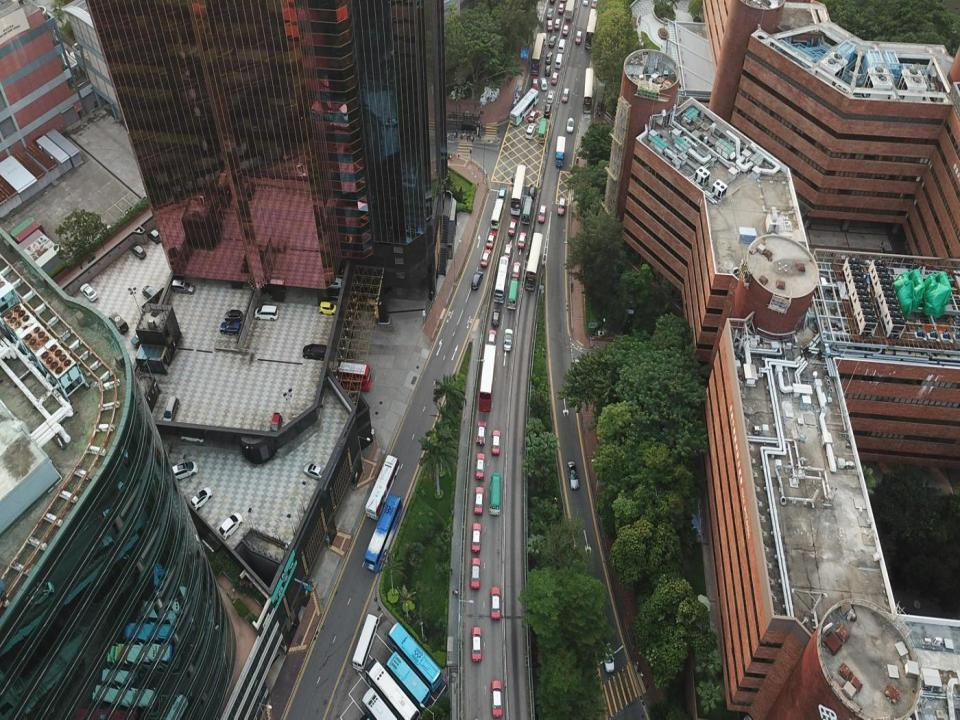bus: (388, 621, 442, 693), (365, 658, 420, 719), (365, 493, 404, 573), (386, 650, 430, 711), (365, 454, 400, 520), (352, 613, 380, 671), (479, 343, 496, 414), (361, 686, 396, 719), (509, 88, 539, 126), (524, 232, 543, 291), (509, 164, 526, 215), (493, 256, 509, 302), (585, 8, 599, 50), (490, 472, 501, 516), (583, 68, 593, 114), (490, 198, 504, 229), (507, 278, 518, 310), (521, 195, 532, 224), (537, 117, 546, 143)
car: (218, 513, 243, 539), (130, 324, 153, 348), (189, 487, 211, 511), (180, 424, 204, 442), (470, 626, 482, 661), (316, 274, 342, 290), (303, 462, 326, 480), (491, 680, 502, 717), (490, 586, 501, 620), (470, 558, 481, 591), (79, 282, 97, 302), (602, 642, 614, 672), (262, 279, 284, 294), (568, 460, 579, 490), (318, 288, 341, 302), (471, 522, 481, 552), (142, 286, 160, 302), (223, 308, 243, 322), (475, 452, 485, 480), (474, 487, 484, 514), (319, 301, 338, 315), (491, 429, 501, 455), (471, 270, 484, 290), (130, 243, 146, 259), (146, 228, 161, 244), (477, 419, 486, 445), (503, 328, 513, 351), (481, 248, 491, 268), (486, 231, 497, 248), (487, 329, 496, 347), (508, 219, 517, 236), (512, 261, 520, 280), (538, 204, 546, 223), (528, 109, 538, 123), (518, 231, 526, 248), (566, 117, 574, 133), (558, 197, 565, 215), (504, 244, 512, 259), (528, 185, 536, 199), (561, 88, 569, 102)
truck: (554, 135, 566, 167)
van: (170, 462, 198, 481), (162, 396, 179, 422), (302, 343, 328, 360), (109, 312, 128, 334), (254, 304, 278, 321), (219, 321, 242, 336), (172, 280, 196, 294), (526, 122, 536, 141), (492, 309, 501, 326), (543, 103, 551, 120), (498, 187, 507, 201)
